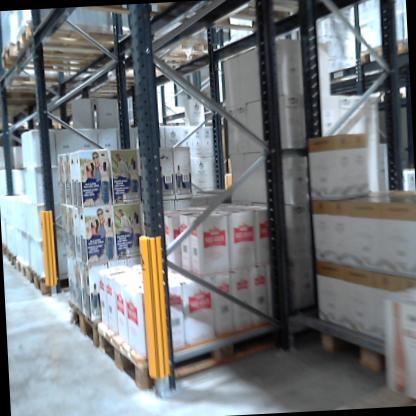pallet: (92, 303, 315, 391), (177, 0, 351, 47), (309, 311, 409, 392), (0, 29, 118, 80), (11, 18, 115, 75), (102, 32, 221, 75), (70, 2, 195, 32), (27, 253, 105, 300), (71, 290, 110, 349), (357, 36, 405, 68), (16, 253, 34, 282), (4, 246, 17, 272)
